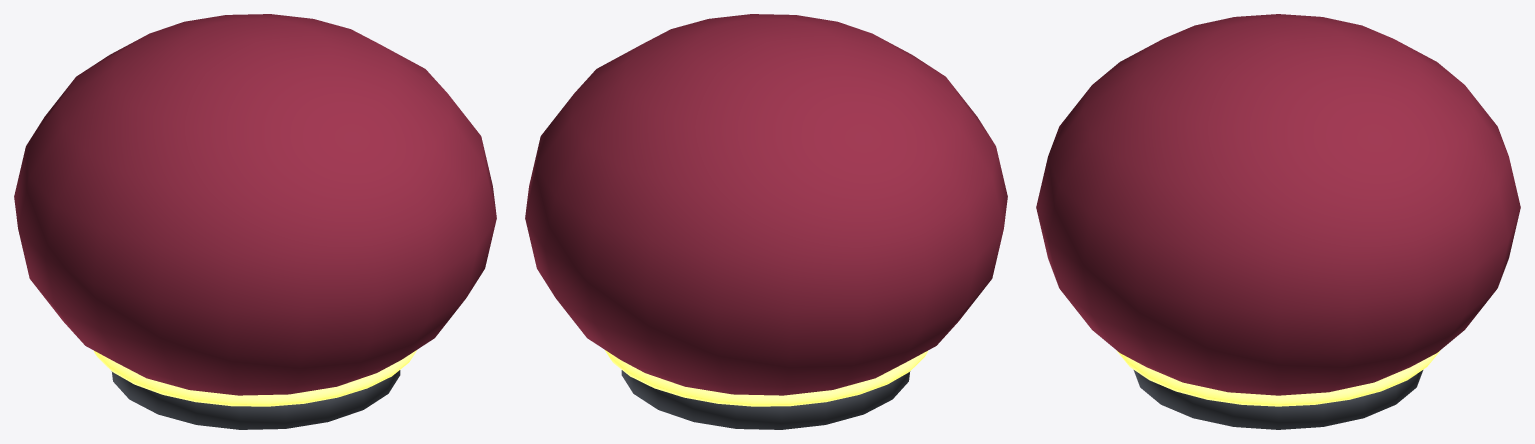
File: ottoman_pouf.glb
3 views of the same model, side by side, from view 1: azimuth 30°, elevation 25°; view 2: azimuth 150°, elevation 25°; view 3: azimuth 270°, elevation 25° (orthographic).
Parts seen in each view (by area): view 1: GD_ottoman_pouf__m0, GD_ottoman_pouf__m1, GD_ottoman_pouf__m2; view 2: GD_ottoman_pouf__m0, GD_ottoman_pouf__m1, GD_ottoman_pouf__m2; view 3: GD_ottoman_pouf__m0, GD_ottoman_pouf__m1, GD_ottoman_pouf__m2.
Part boxes in pixels (<box>): GD_ottoman_pouf__m0: <box>14,14,496,395</box>; GD_ottoman_pouf__m1: <box>111,370,400,429</box>; GD_ottoman_pouf__m2: <box>93,350,416,406</box>; GD_ottoman_pouf__m0: <box>525,14,1007,395</box>; GD_ottoman_pouf__m1: <box>621,370,910,429</box>; GD_ottoman_pouf__m2: <box>605,350,928,406</box>; GD_ottoman_pouf__m0: <box>1036,14,1520,395</box>; GD_ottoman_pouf__m1: <box>1133,370,1423,429</box>; GD_ottoman_pouf__m2: <box>1116,350,1440,406</box>.
Size of the model in its own units: 0.6 by 0.45 by 0.6.
